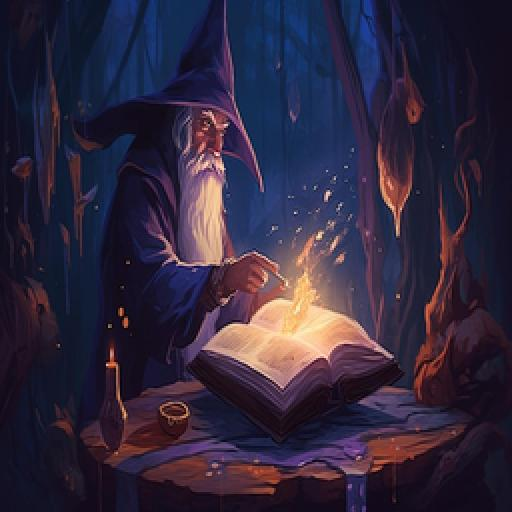wizards: (66, 0, 280, 376)
